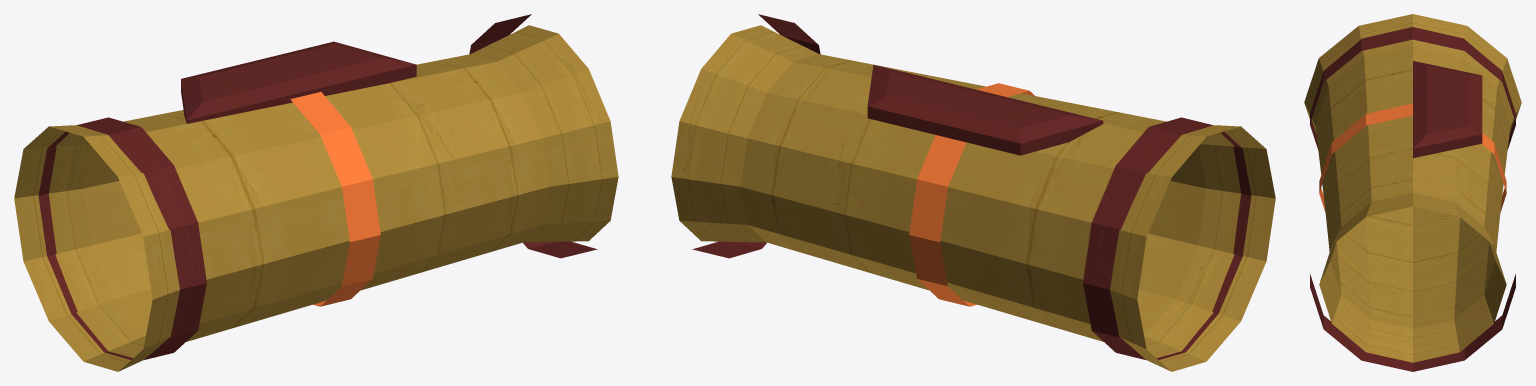
File: eq_past_3_arm.glb
3 views of the same model, side by side, from view 1: azimuth 30°, elevation 25°; view 2: azimuth 150°, elevation 25°; view 3: azimuth 270°, elevation 25° (orthographic). The views are drawn at different scales.
Visible parts, largest first — view 1: eq_past_3_arm; view 2: eq_past_3_arm; view 3: eq_past_3_arm.
Boxes of the visible parts, bbox=[...] form: eq_past_3_arm: bbox=[14, 14, 618, 371]; eq_past_3_arm: bbox=[671, 14, 1275, 371]; eq_past_3_arm: bbox=[1304, 14, 1521, 371].
Size of the model in its own units: 0.2516 by 0.1123 by 0.1253.
Materials: 3 (2 with a texture image).
